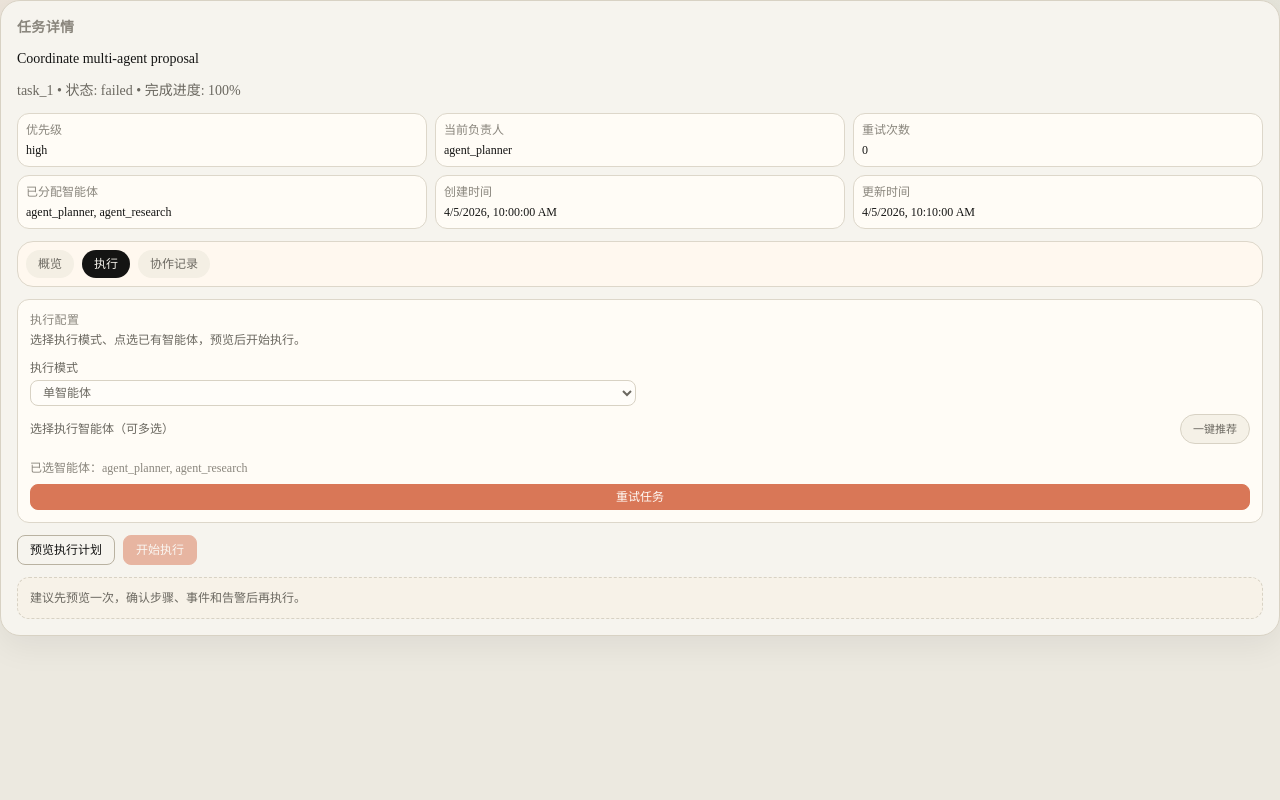
Scenario: TaskDetail › surfaces structured execution failure guidance from task results
The image size is (1280, 800).
Click the button with test id "task-detail-tab-overview": coordinates (50, 264) left=26, top=250, right=74, bottom=278
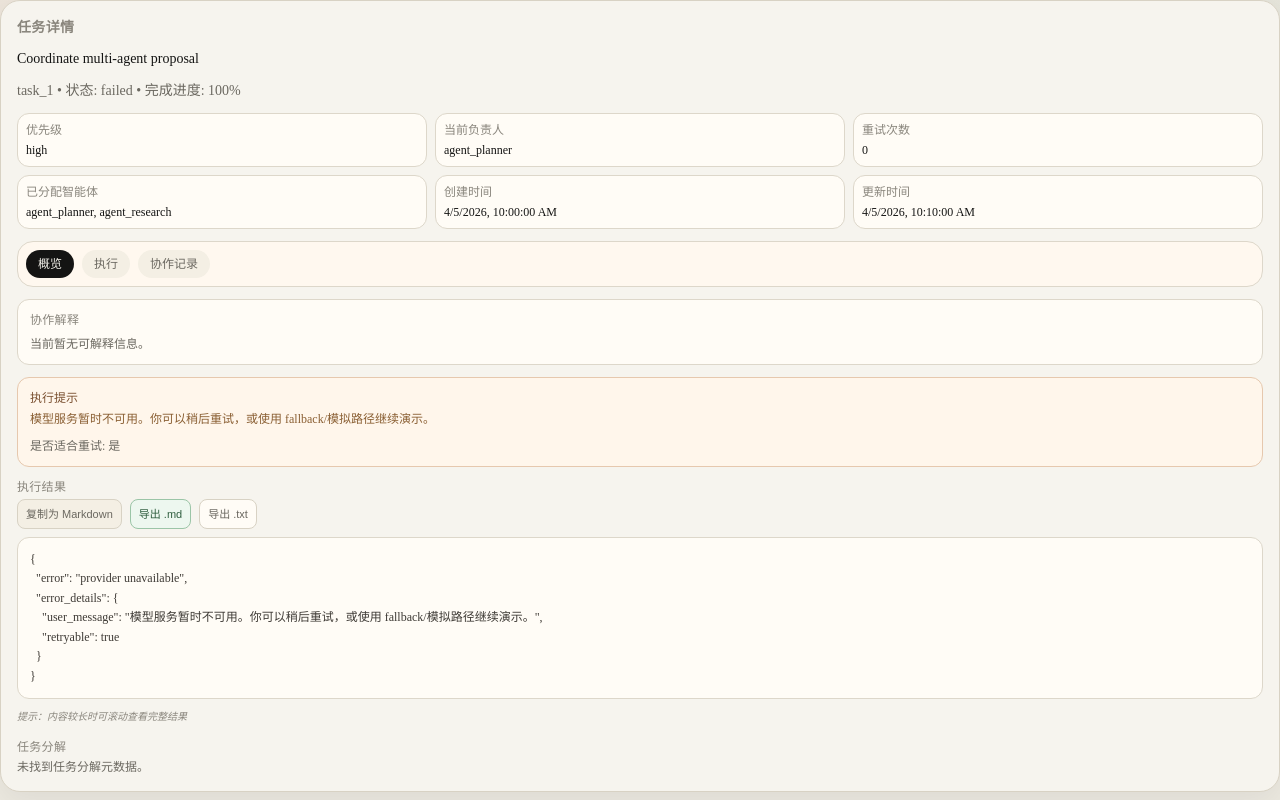
Expected: the text "模型服务暂时不可用。你可以稍后重试，或使用 fallback/模拟路径继续演示。" is shown, left=30, top=412, right=435, bottom=426
Expected: the text "是否适合重试: 是" is shown, left=30, top=438, right=120, bottom=452
